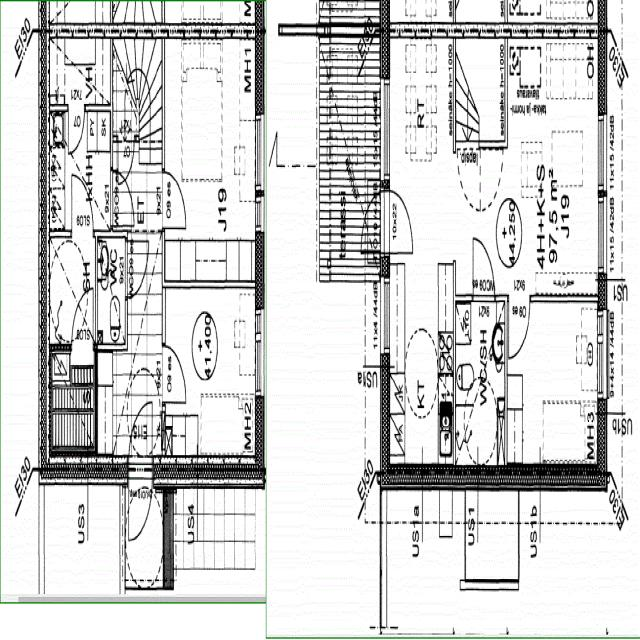door: (128, 456, 152, 546), (128, 394, 152, 484), (356, 190, 390, 253), (380, 190, 413, 253), (162, 172, 186, 229), (71, 175, 93, 237), (110, 170, 134, 226), (473, 238, 494, 302), (162, 347, 186, 402), (125, 242, 148, 297), (72, 291, 93, 351), (68, 104, 85, 154), (118, 134, 134, 185), (522, 295, 536, 338), (508, 295, 522, 338)
